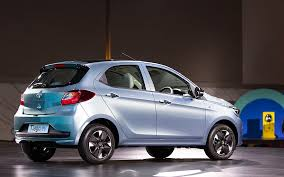Tiago: (14, 56, 244, 169)
